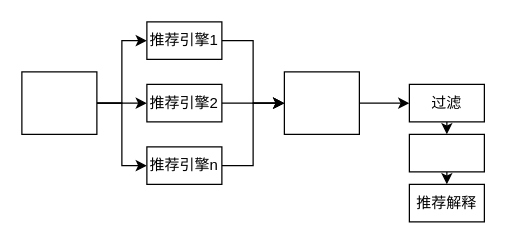
Some shapes in this 506 by 244 pixel diagram are drawn without their labels. Here are the shapes that lost their labels. From the top down, the box of each, then its label:
(21, 71, 97, 134): 用户数据行为
(283, 71, 359, 134): 初始推荐结果
(408, 133, 484, 172): 排名
